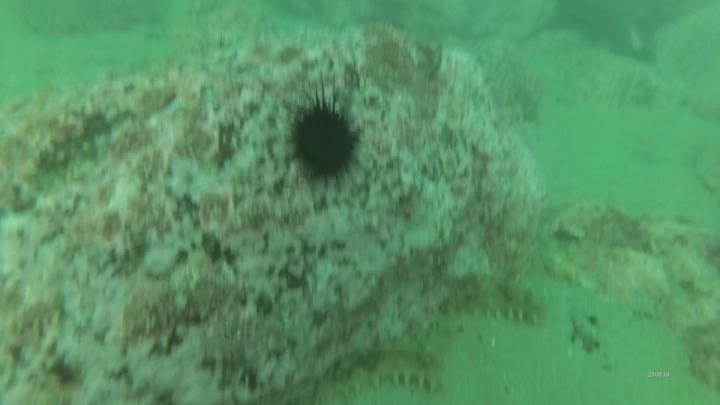echinus: (285, 90, 364, 189)
holothurian: (320, 336, 450, 400), (428, 273, 549, 332), (554, 67, 661, 111)
